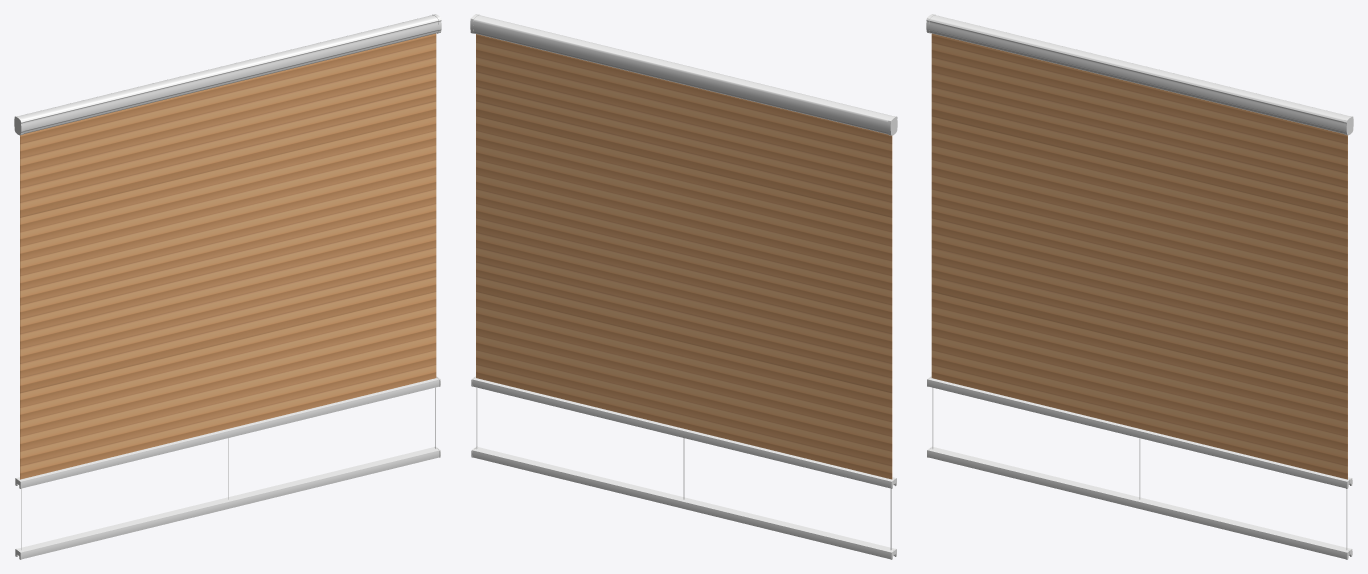
The model's file is PLE 12.glb.
The picture shows the model from 3 angles, left to right: view 1: azimuth 30°, elevation 25°; view 2: azimuth 150°, elevation 25°; view 3: azimuth 330°, elevation 25°; orthographic projection.
Parts seen in each view (by area): view 1: Plane.002, BezierCurve.049, Cube.003, Cube.016; view 2: Plane.002, BezierCurve.049, Cube.003, Cube.016; view 3: Plane.002, BezierCurve.049, Cube.003, Cube.016.
Boxes of the visible parts, x1,y1,x2,y2 form: Plane.002: (20,33,436,479); BezierCurve.049: (19,15,438,133); Cube.003: (17,447,439,559); Cube.016: (17,377,439,488); Plane.002: (476,34,892,479); BezierCurve.049: (473,15,892,134); Cube.003: (472,447,894,559); Cube.016: (472,377,894,488); Plane.002: (931,33,1347,479); BezierCurve.049: (929,15,1348,133); Cube.003: (928,447,1350,559); Cube.016: (928,377,1350,488).
Bounding box in the file's own units: 0.9998 × 1 × 0.0289.
Materials: 4 (1 with a texture image).
